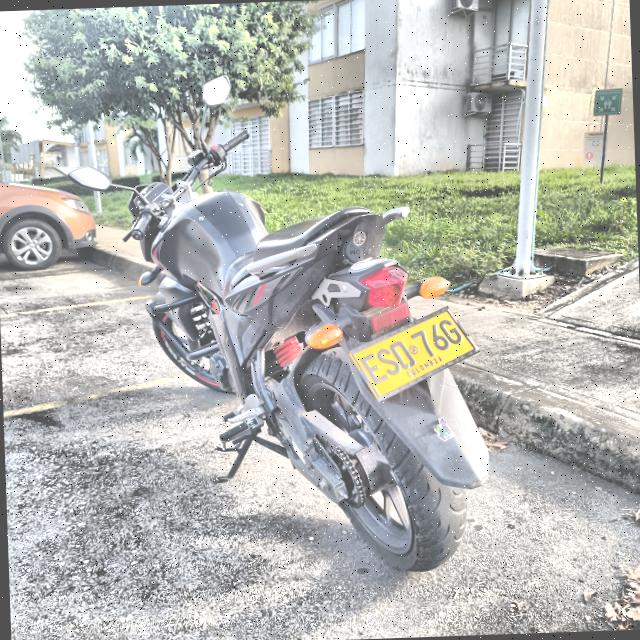plate: (352, 310, 474, 396)
